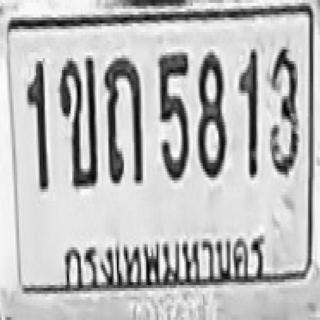A02: (59, 55, 96, 186)
A22: (103, 55, 143, 183)
N01: (25, 60, 47, 190), (237, 46, 258, 178)
N03: (268, 45, 298, 176)
N05: (158, 51, 188, 179)
N08: (196, 49, 225, 178)
P04: (57, 226, 270, 293)
